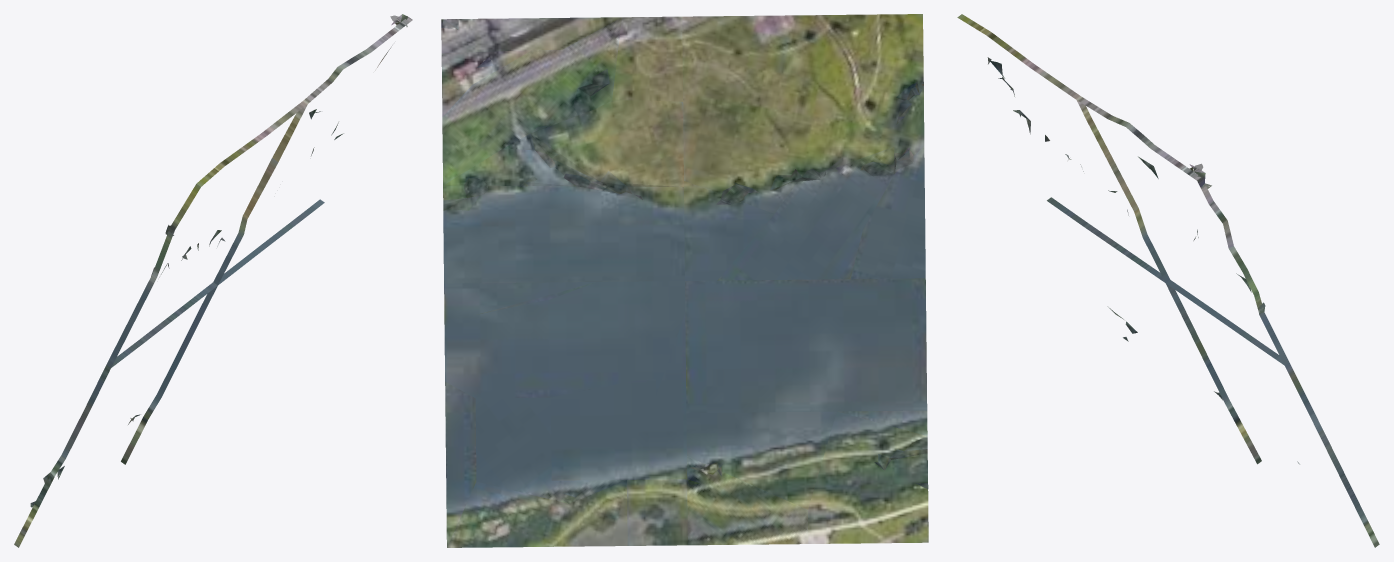
3 views of the same model, side by side, from view 1: azimuth 30°, elevation 25°; view 2: azimuth 150°, elevation 25°; view 3: azimuth 270°, elevation 25° (orthographic). The views are drawn at different scales.
Bounding box in the file's own units: 610 × 563 × 513.
Materials: 1 (1 with a texture image).
